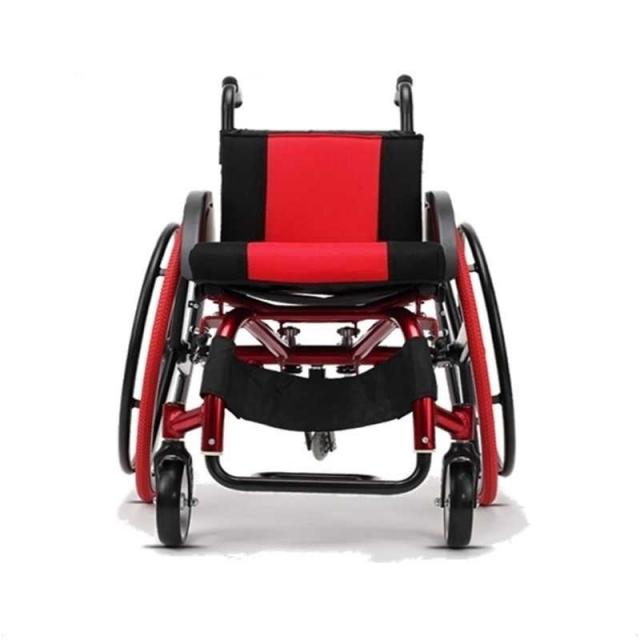wheelchair: (89, 56, 545, 575)
